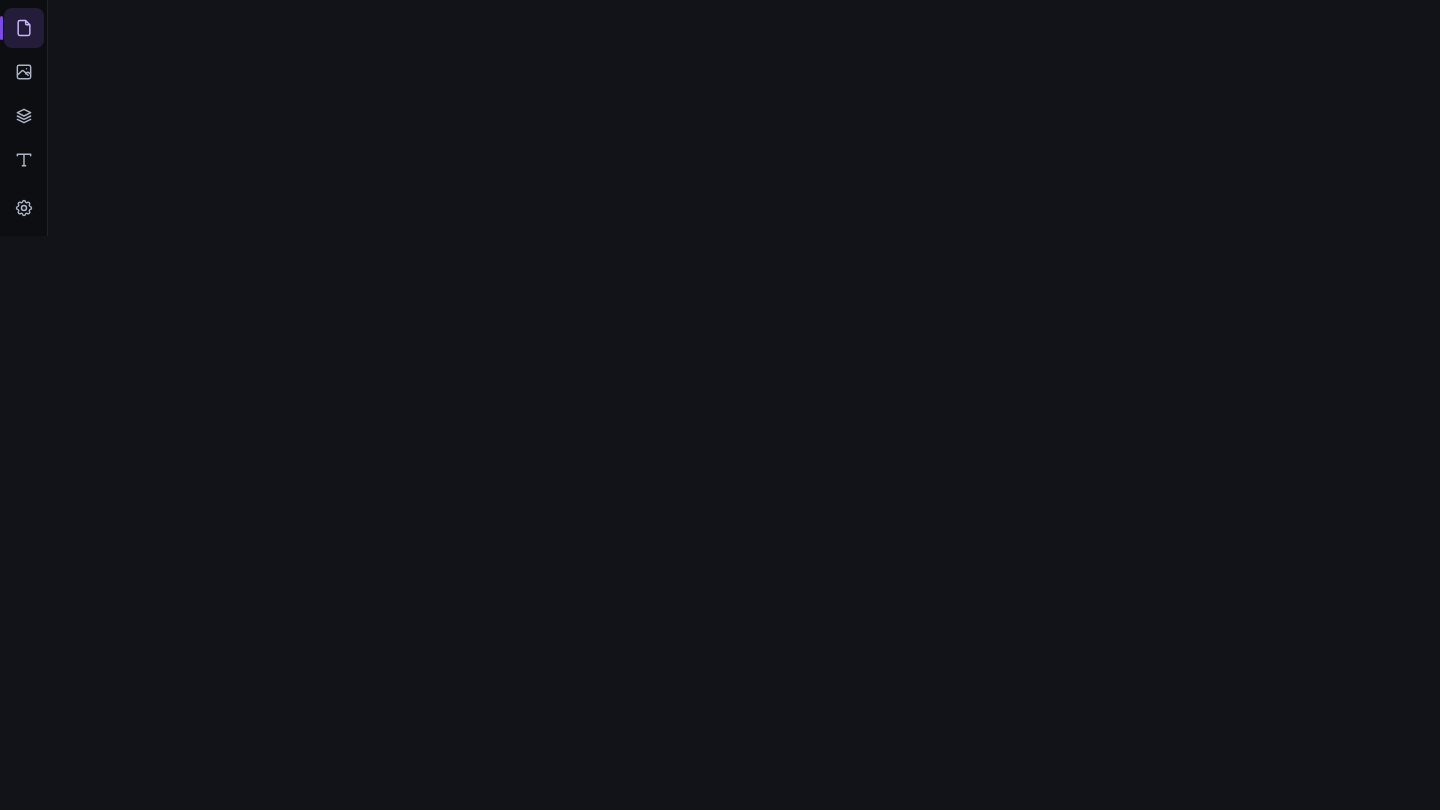
Test: Como usar (F1) › engrenagem tem "Como usar" logo depois de Configurações…
The width and height of the screenshot is (1440, 810).
Step 1. Click the button named "Configurações" → (24, 208), box top-left (4, 188), bottom-right (44, 228)
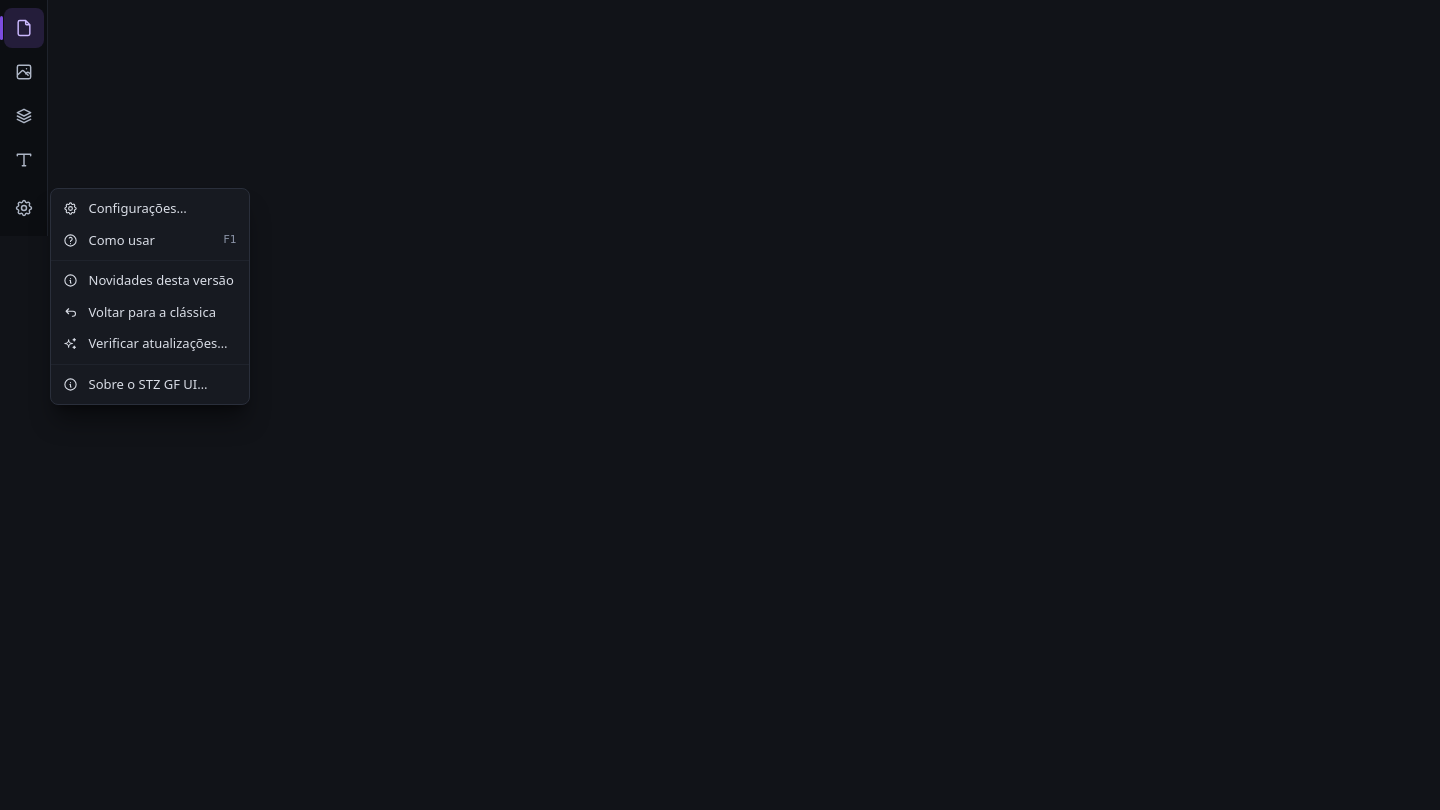
Expected: the text "Configurações…" is shown, top-left (88, 199), bottom-right (187, 217)
Expected: the menu item "Como usar F1" is shown
Step 2. Click the menu item "Como usar F1" → (150, 240), box top-left (50, 224), bottom-right (248, 256)
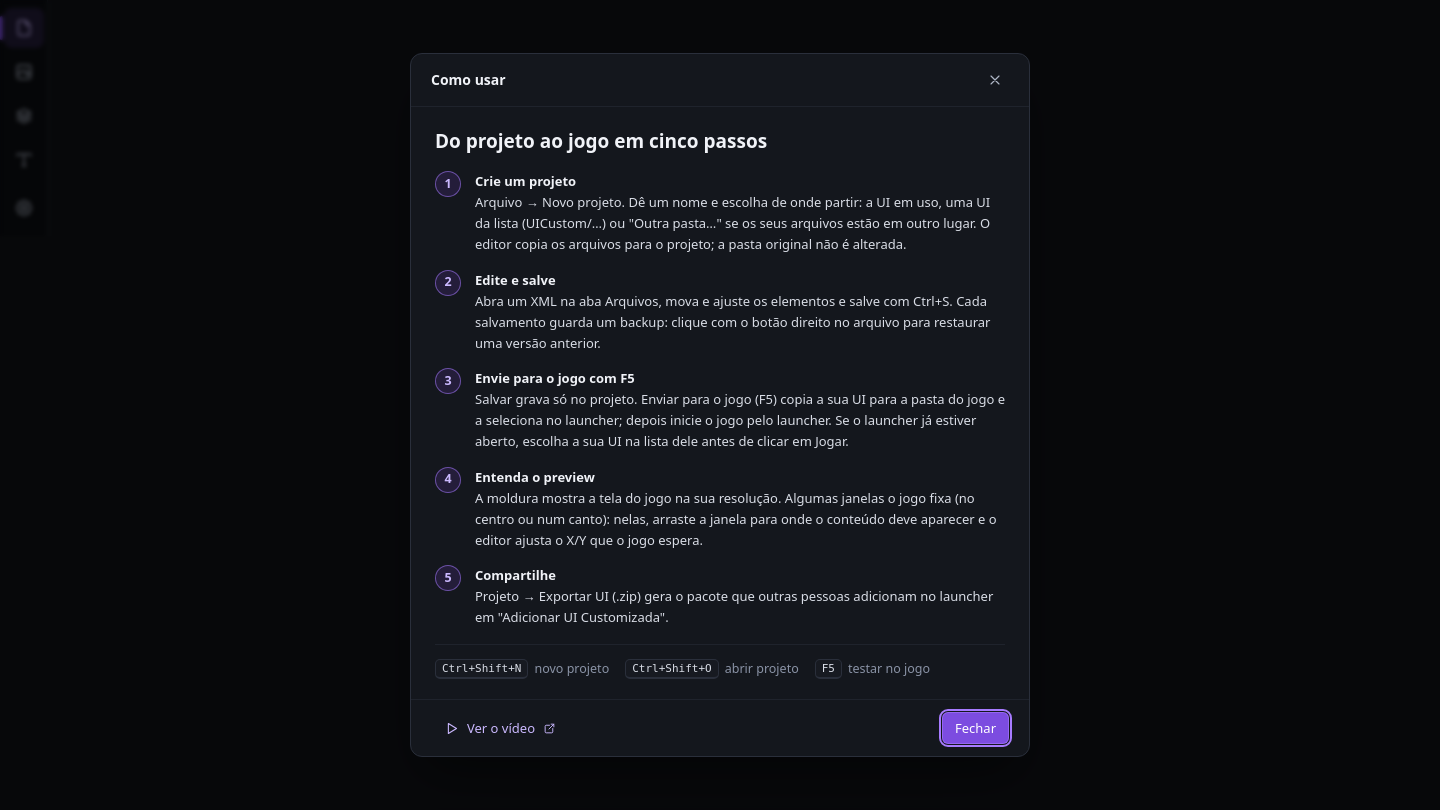
Expected: the dialog "Como usar" is shown, top-left (410, 53), bottom-right (1030, 758)
